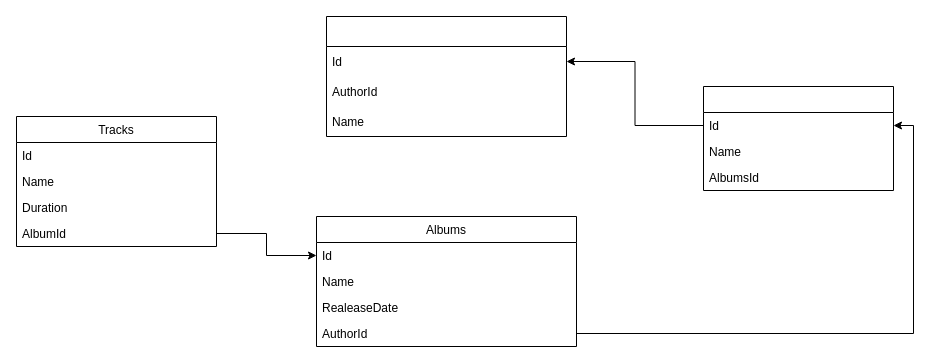
Image size: 930x363. Some labels were removed from this diagram. Here are the shapes that lost their labels. From the top down, the box of each, then its label:
(326, 16, 566, 136): Genres
(702, 86, 894, 190): AuthorsList
